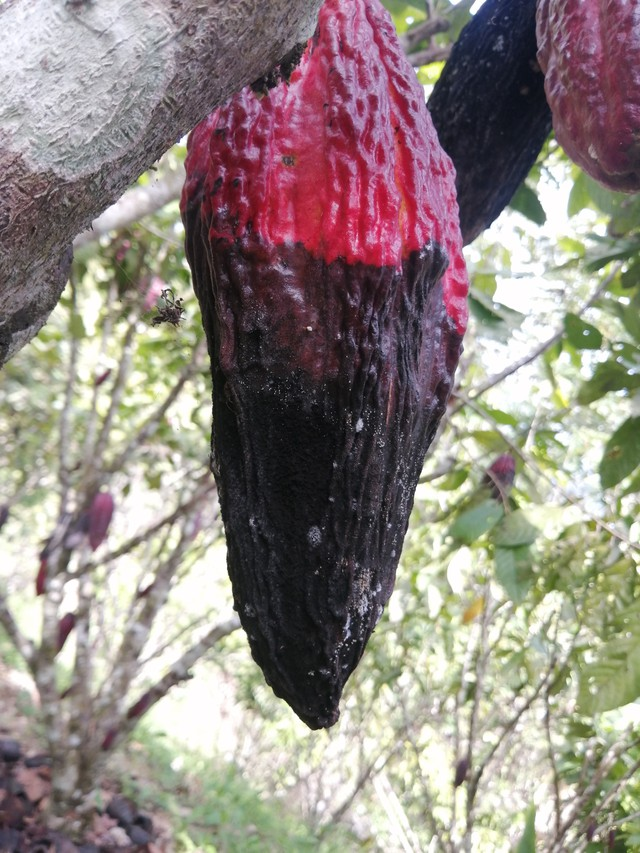moniliophthora roreri: (139, 0, 496, 745)
